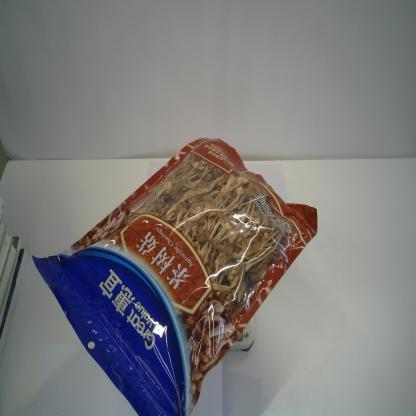Dried Food: (31, 137, 318, 416)
